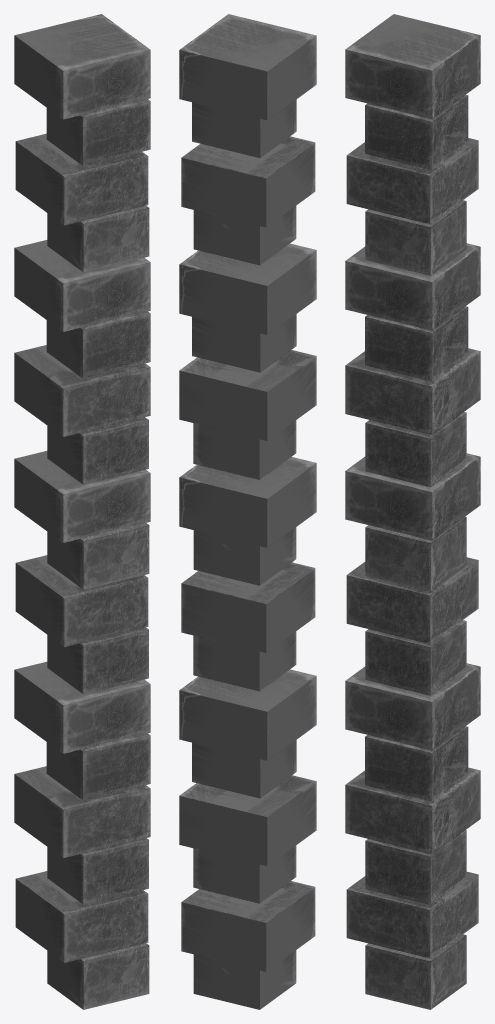
The model's file is ladrillos_esquina.fbx.
3 renders of one model, left to right at view 1: azimuth 30°, elevation 25°; view 2: azimuth 150°, elevation 25°; view 3: azimuth 330°, elevation 25°, orthographic.
Visible parts, largest first — view 1: ladrillos_esquina; view 2: ladrillos_esquina; view 3: ladrillos_esquina.
Part boxes in pixels (left/top/right/bottom): ladrillos_esquina: left=14, top=14, right=150, bottom=1009; ladrillos_esquina: left=179, top=14, right=316, bottom=1009; ladrillos_esquina: left=345, top=14, right=480, bottom=1009.
Size of the model in its own units: 46.66 by 482 by 45.2.
